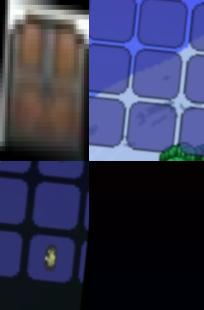chest: (0, 0, 89, 161)
platform: (89, 161, 204, 310)
